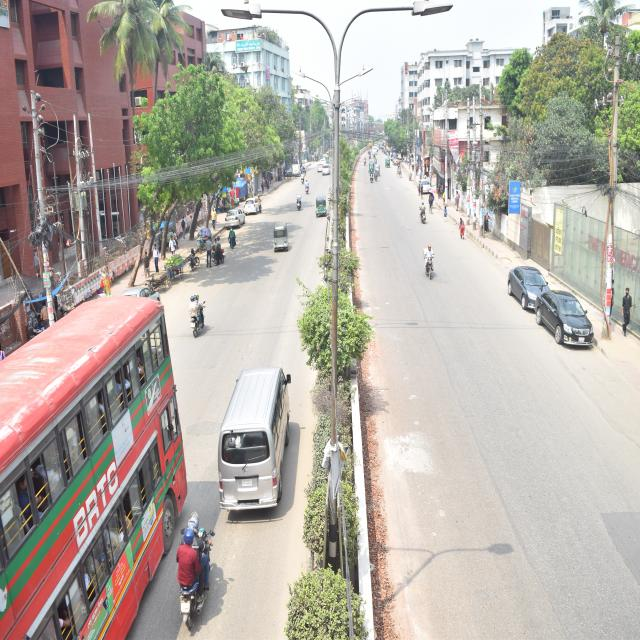bus: (4, 288, 172, 593)
car: (533, 282, 608, 356), (218, 189, 247, 231), (236, 179, 264, 217), (506, 265, 532, 291)
microbus: (218, 344, 284, 526)
motorbike: (166, 513, 216, 612), (188, 292, 211, 344), (416, 240, 440, 286), (300, 178, 318, 203), (293, 195, 311, 219), (416, 204, 430, 230)
